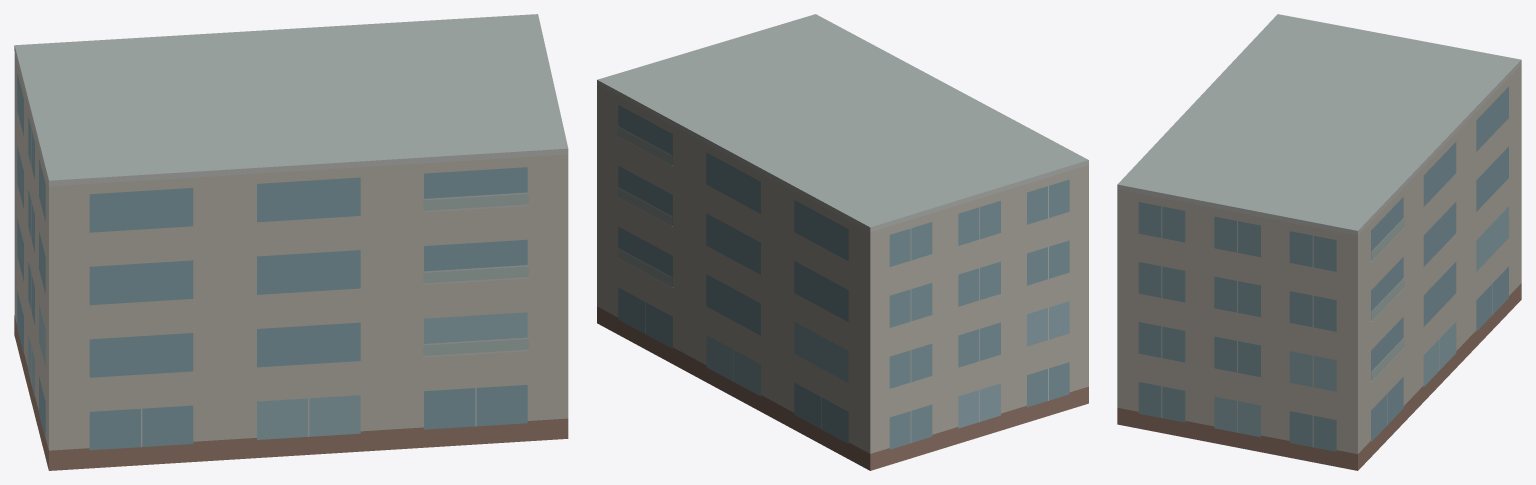
File: survey-upis-32532775.glb
The picture shows the model from 3 angles, left to right: view 1: azimuth 30°, elevation 25°; view 2: azimuth 150°, elevation 25°; view 3: azimuth 270°, elevation 25°; orthographic projection. The views are drawn at different scales.
Parts seen in each view (by area): view 1: survey-upis-32532775.tmp; view 2: survey-upis-32532775.tmp; view 3: survey-upis-32532775.tmp.
Boxes of the visible parts, bbox=[...] form: survey-upis-32532775.tmp: bbox=[14, 14, 568, 470]; survey-upis-32532775.tmp: bbox=[597, 14, 1088, 470]; survey-upis-32532775.tmp: bbox=[1117, 14, 1521, 470].
Bounding box in the file's own units: 23.95 × 12.35 × 18.86.
